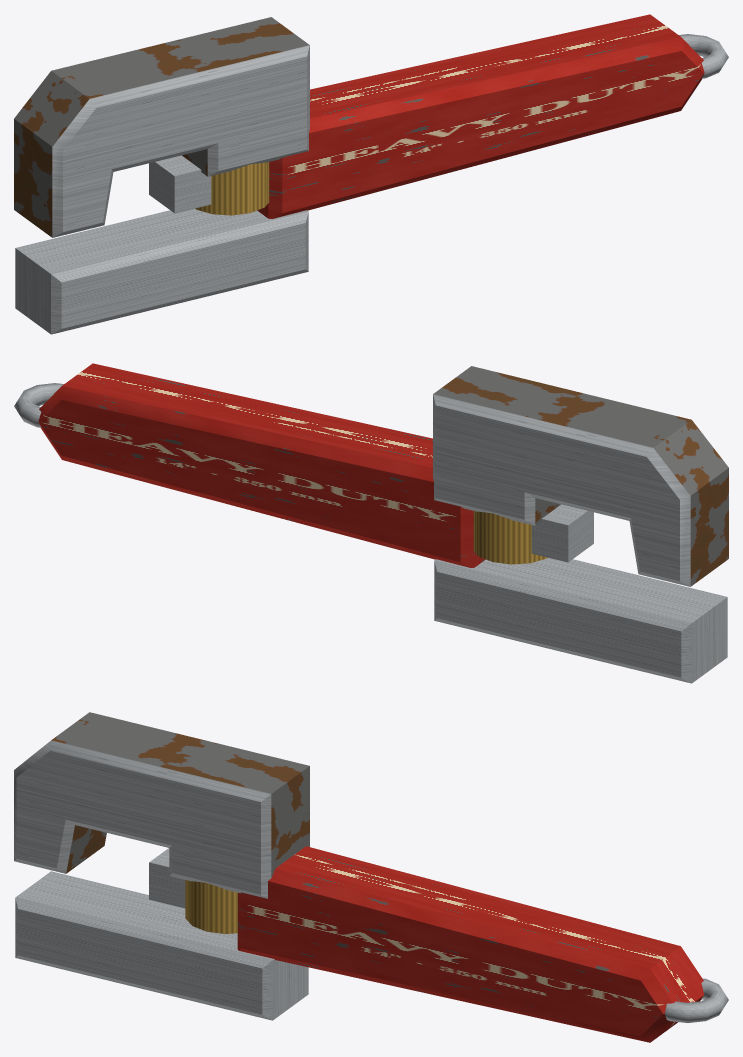
Rendered from wrench.obj.
The picture shows the model from 3 angles, top to bottom: view 1: azimuth 30°, elevation 25°; view 2: azimuth 150°, elevation 25°; view 3: azimuth 330°, elevation 25°; orthographic projection.
Parts seen in each view (by area): view 1: wrench_1_surface, wrench_0_surface; view 2: wrench_1_surface, wrench_0_surface; view 3: wrench_1_surface, wrench_0_surface.
Boxes of the visible parts, left/top/right/bottom form: wrench_1_surface: left=14, top=17, right=728, bottom=334; wrench_0_surface: left=257, top=14, right=704, bottom=218; wrench_1_surface: left=14, top=366, right=728, bottom=683; wrench_0_surface: left=38, top=363, right=485, bottom=567; wrench_1_surface: left=14, top=712, right=728, bottom=1022; wrench_0_surface: left=237, top=846, right=703, bottom=1042.
Size of the model in its own units: 0.311 by 0.098 by 0.036.
2 materials, 2 textured.
